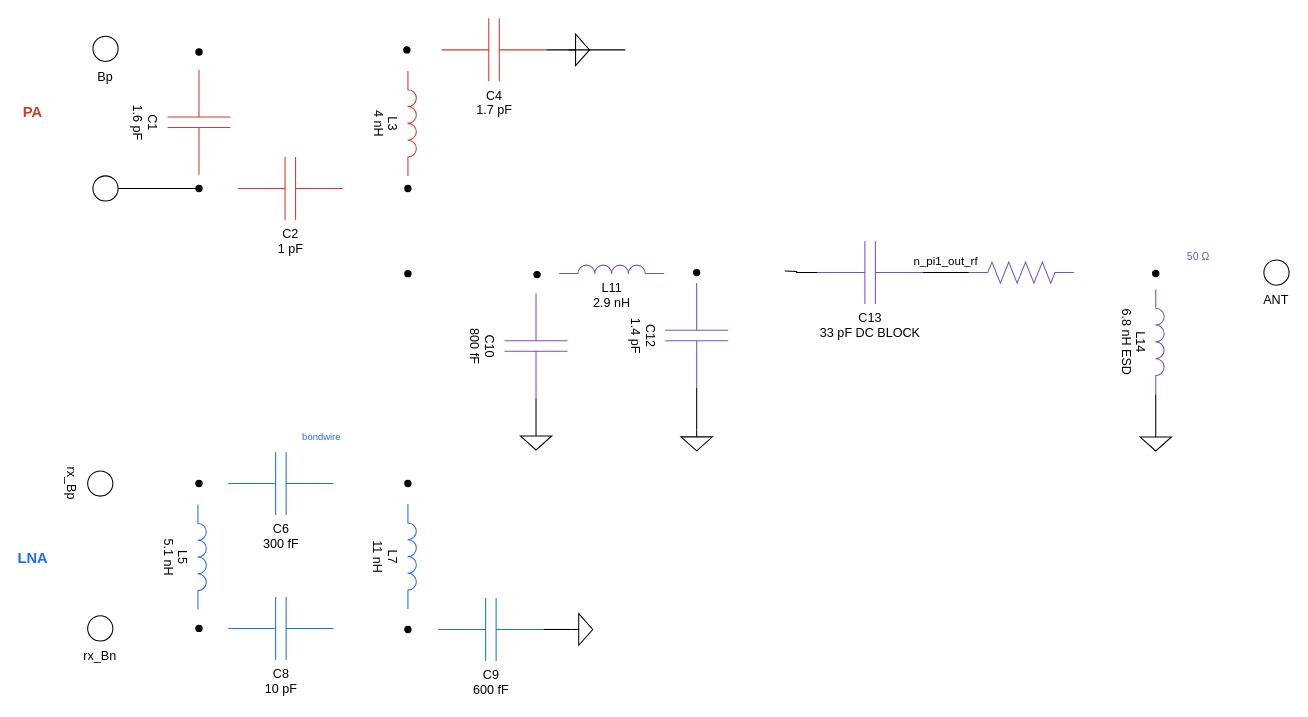
This 1308x717 diagram has some shape labels left out. Here are the shapes that lost their labels. From the top down, the centre of each, then its label:
At (105,188): "Bn".
At (1021,272): "R_ant0 0 Ω BRIDGE".
